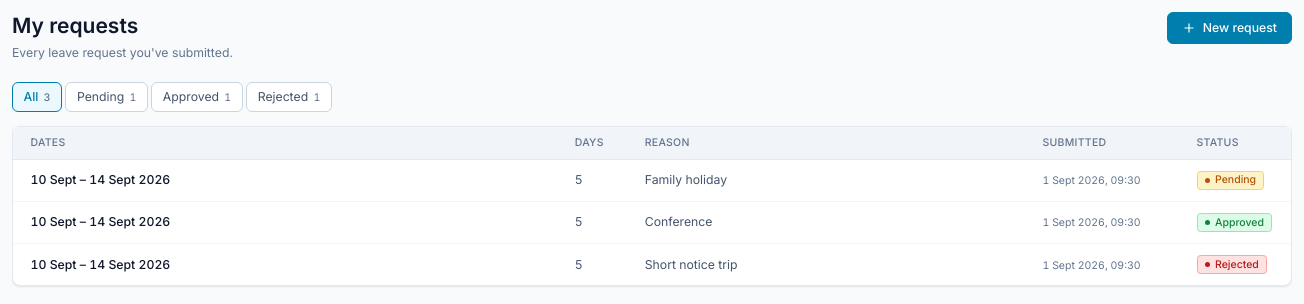
Test case: MyRequestsPage › filters to a single status
The width and height of the screenshot is (1304, 304).
Check: the table is shown, box [13,127,1291,285]
Click the button "Approved1" at (197, 97), box [151,82,243,112]
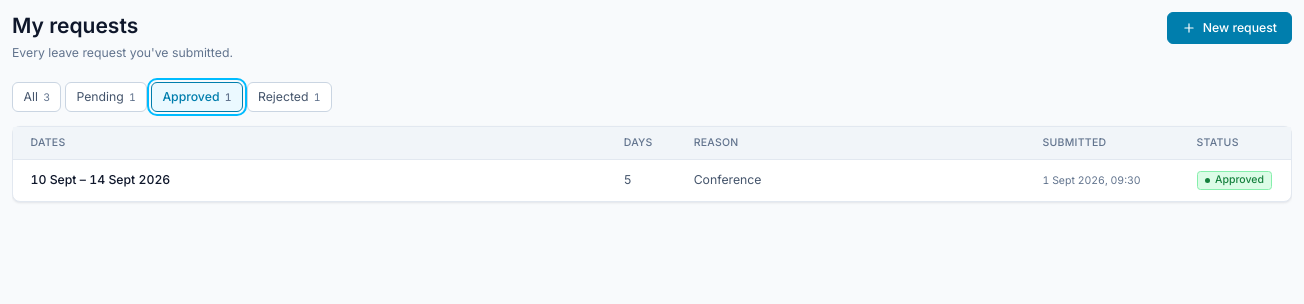
Check: the text "Conference" is shown, box [694,172,762,187]
Check: the text "Family holiday" is gone
Check: the text "Short notice trip" is gone
